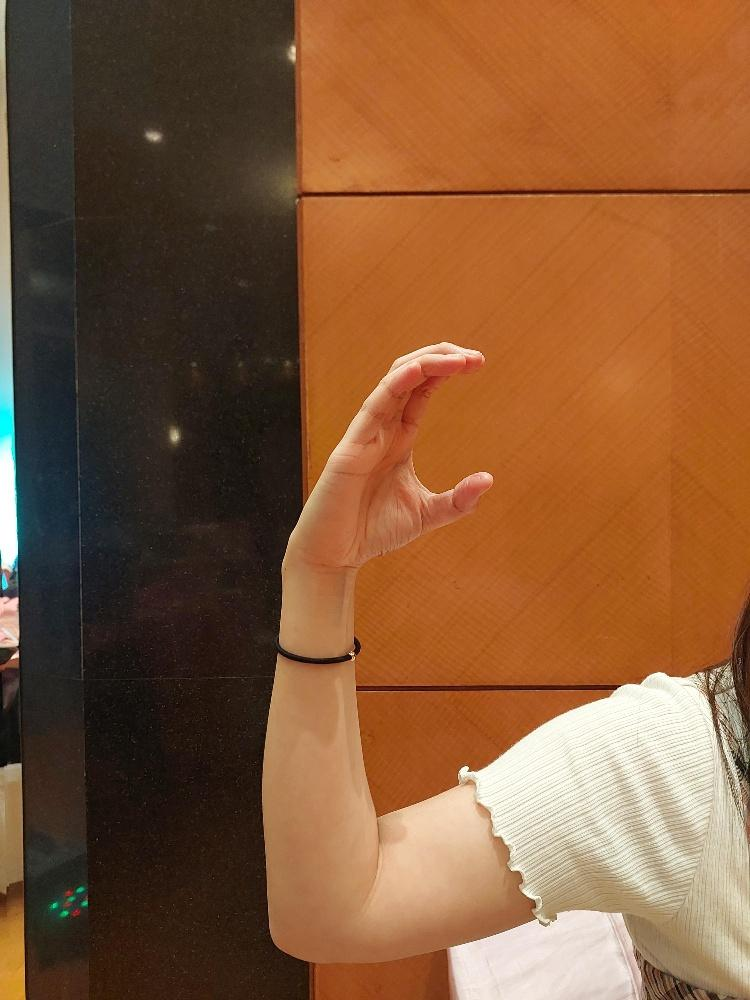c: (308, 339, 495, 568)
